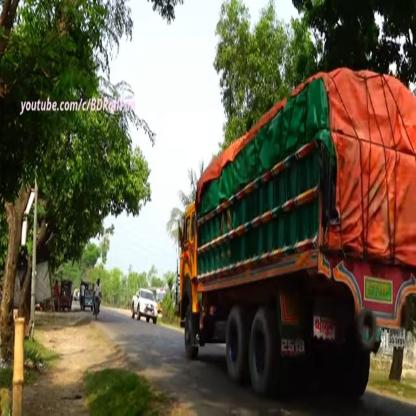truck: (174, 96, 412, 396)
